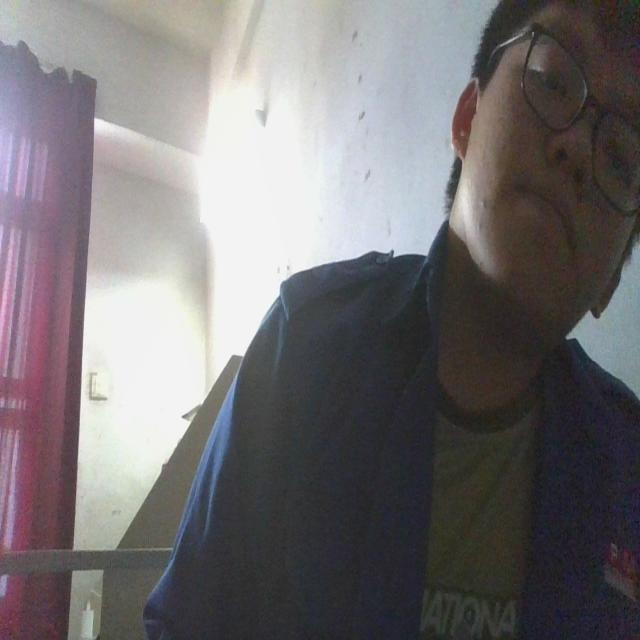person_with_labcoat: (144, 0, 640, 639)
